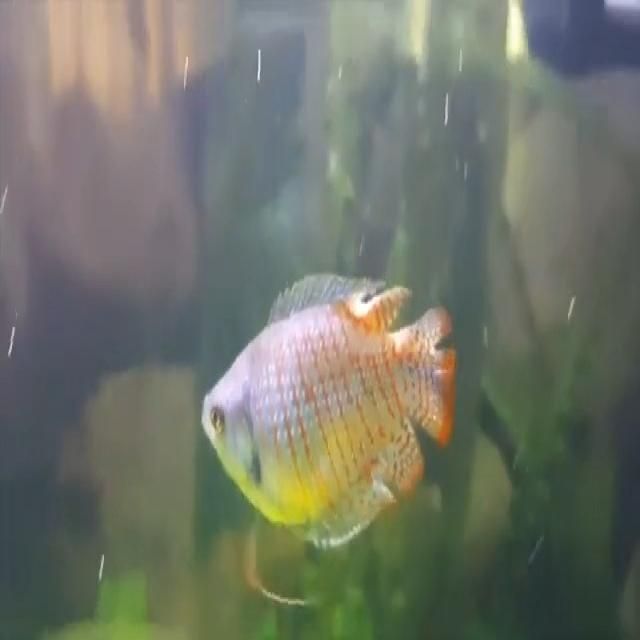fish: (200, 268, 460, 544)
